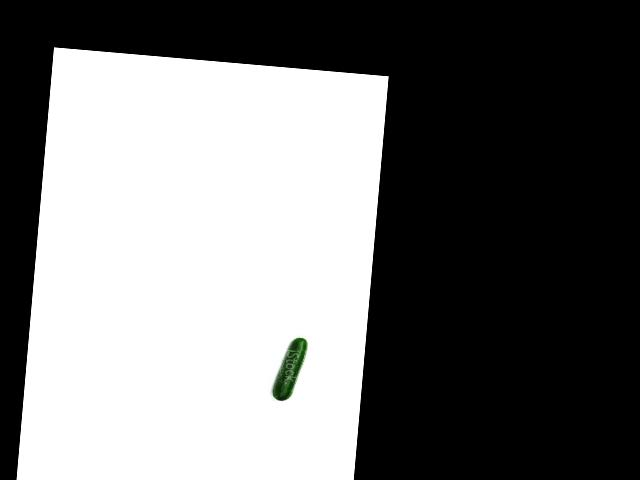cucumber: (271, 335, 307, 403)
